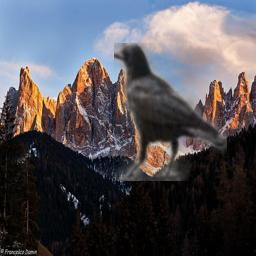Crow: (114, 43, 227, 181)
